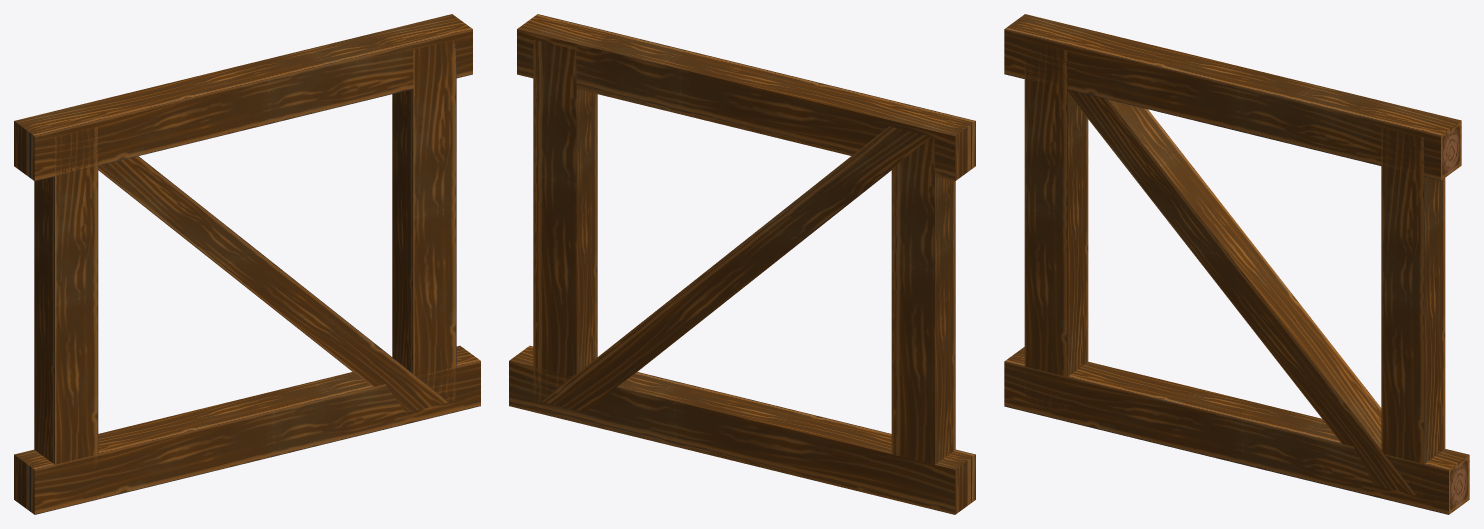
The model's file is window_ff1.fbx.
3 views of the same model, side by side, from view 1: azimuth 30°, elevation 25°; view 2: azimuth 150°, elevation 25°; view 3: azimuth 330°, elevation 25° (orthographic).
Visible parts, largest first — view 1: Cube.2117; view 2: Cube.2117; view 3: Cube.2117.
Boxes of the visible parts, x1,y1,x2,y2 form: Cube.2117: (14,14,480,514); Cube.2117: (509,14,975,514); Cube.2117: (1004,14,1469,514).
Size of the model in its own units: 2.12 by 1.72 by 0.1709.
